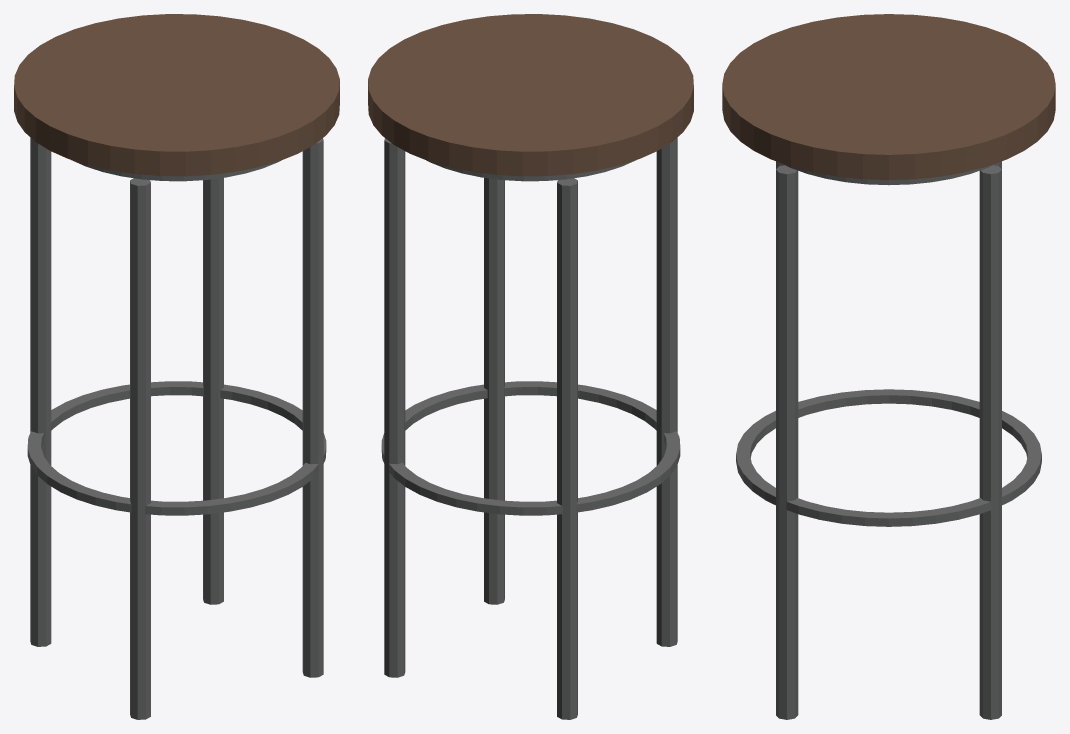
File: stool-tall.glb
3 renders of one model, left to right at view 1: azimuth 30°, elevation 25°; view 2: azimuth 150°, elevation 25°; view 3: azimuth 270°, elevation 25°, orthographic. The views are drawn at different scales.
Parts seen in each view (by area): view 1: metal, wood; view 2: metal, wood; view 3: wood, metal.
Part boxes in pixels (x1,y1,x2,y2): metal: (27, 137, 326, 719); wood: (14, 14, 339, 176); metal: (381, 137, 680, 719); wood: (368, 14, 693, 176); wood: (722, 14, 1055, 179); metal: (736, 161, 1041, 719).
Bounding box in the file's own units: 0.36 × 0.7 × 0.36.
